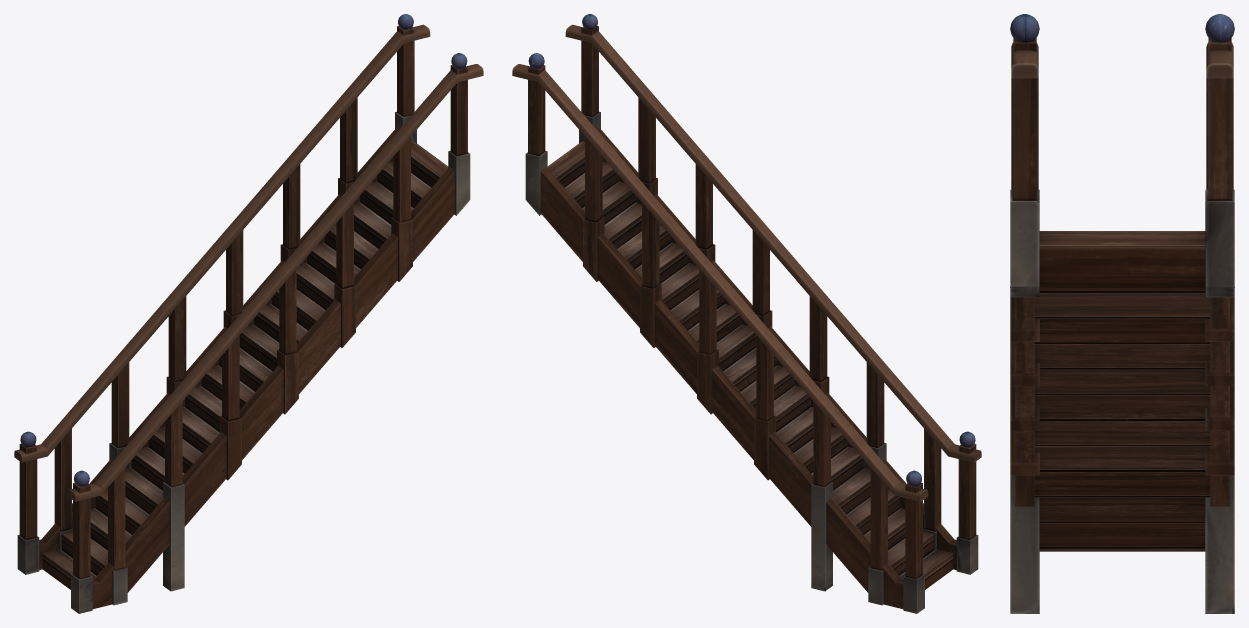
Rendered from DS_WizLab_Arch_Staircase.fbx.
The picture shows the model from 3 angles, left to right: view 1: azimuth 30°, elevation 25°; view 2: azimuth 150°, elevation 25°; view 3: azimuth 270°, elevation 25°; orthographic projection. The views are drawn at different scales.
Visible parts, largest first — view 1: DS_WizLab_Arch_Staircase; view 2: DS_WizLab_Arch_Staircase; view 3: DS_WizLab_Arch_Staircase.
Part boxes in pixels (x1=…): DS_WizLab_Arch_Staircase: x1=14, y1=14, x2=483, y2=613; DS_WizLab_Arch_Staircase: x1=512, y1=14, x2=981, y2=613; DS_WizLab_Arch_Staircase: x1=1010, y1=14, x2=1234, y2=613.
Bounding box in the file's own units: 442 × 479 × 115.
1 material, 1 textured.
